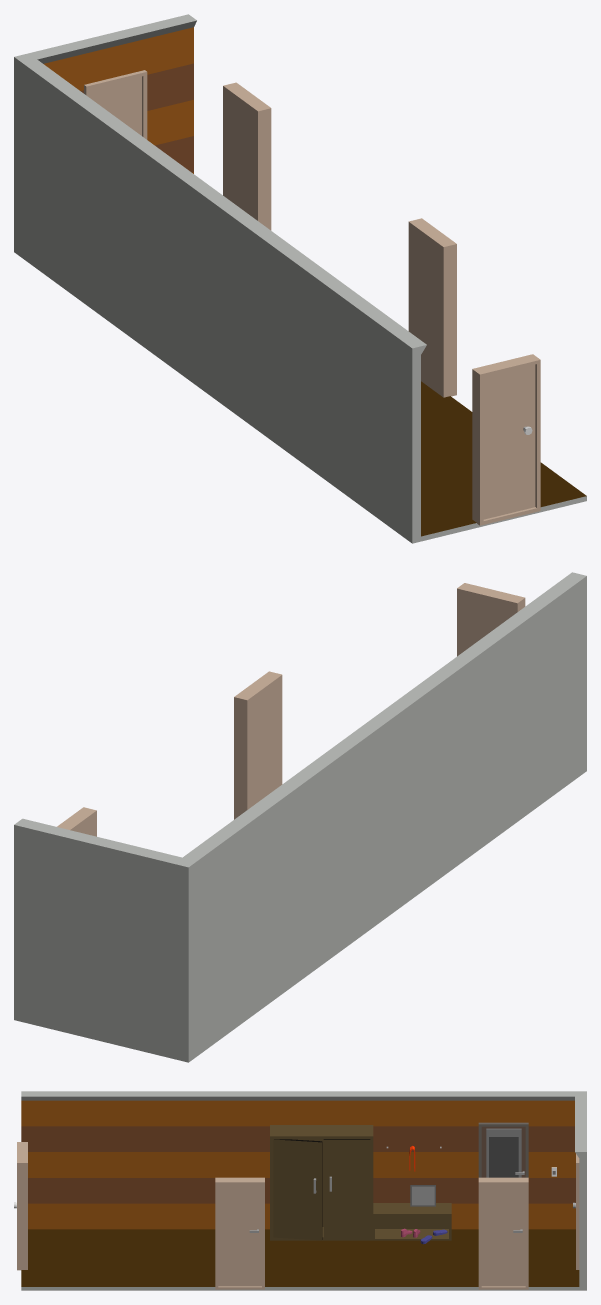
File: Corridor.fbx
The picture shows the model from 3 angles, top to bottom: view 1: azimuth 30°, elevation 25°; view 2: azimuth 150°, elevation 25°; view 3: azimuth 270°, elevation 25°; orthographic projection. The views are drawn at different scales.
Parts seen in each view (by area): view 1: Куб.040, Д(Кухня), Д(Родители), Д(ГГ), Д(Туалет); view 2: Куб.040, Д(Родители), Д(Кухня), Д(ГГ); view 3: Куб.040, Д(ГГ), Д(Родители), Куб.053, Куб.052, Куб.046, Куб.047, Д(Входная), Д(Кухня), Д(Входная).001, Куб.005, Д(Туалет).
Part boxes in pixels (x1=…): Куб.040: x1=14, y1=14, x2=586, y2=543; Д(Кухня): x1=472, y1=354, x2=540, y2=525; Д(Родители): x1=408, y1=218, x2=456, y2=397; Д(ГГ): x1=223, y1=82, x2=271, y2=230; Д(Туалет): x1=84, y1=70, x2=147, y2=139; Куб.040: x1=14, y1=572, x2=586, y2=1062; Д(Родители): x1=234, y1=671, x2=282, y2=819; Д(Кухня): x1=457, y1=583, x2=525, y2=656; Д(ГГ): x1=57, y1=807, x2=96, y2=836; Куб.040: x1=21, y1=1091, x2=586, y2=1290; Д(ГГ): x1=478, y1=1177, x2=528, y2=1289; Д(Родители): x1=215, y1=1177, x2=264, y2=1289; Куб.053: x1=273, y1=1139, x2=322, y2=1240; Куб.052: x1=323, y1=1139, x2=370, y2=1238; Куб.046: x1=270, y1=1125, x2=373, y2=1240; Куб.047: x1=373, y1=1203, x2=451, y2=1240; Д(Входная): x1=486, y1=1128, x2=521, y2=1177; Д(Кухня): x1=17, y1=1142, x2=27, y2=1270; Д(Входная).001: x1=478, y1=1122, x2=528, y2=1177; Куб.005: x1=410, y1=1185, x2=435, y2=1206; Д(Туалет): x1=576, y1=1154, x2=579, y2=1269.
Size of the model in its own units: 646 by 656 by 2456.
